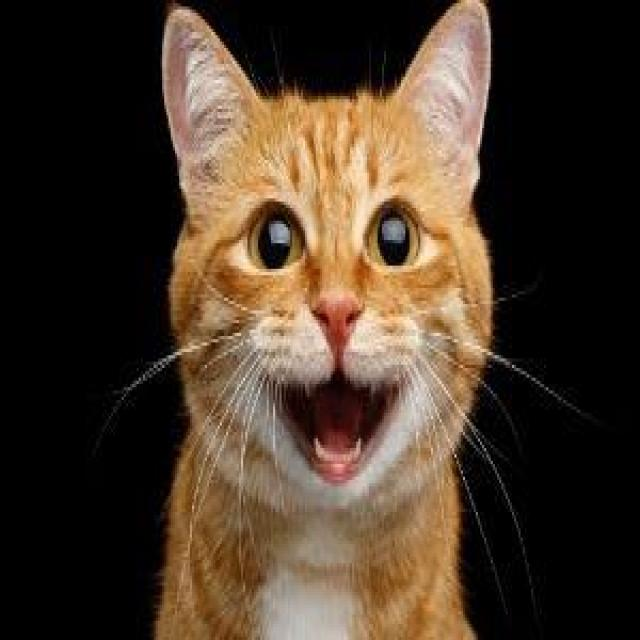Cat: (152, 2, 506, 530)
